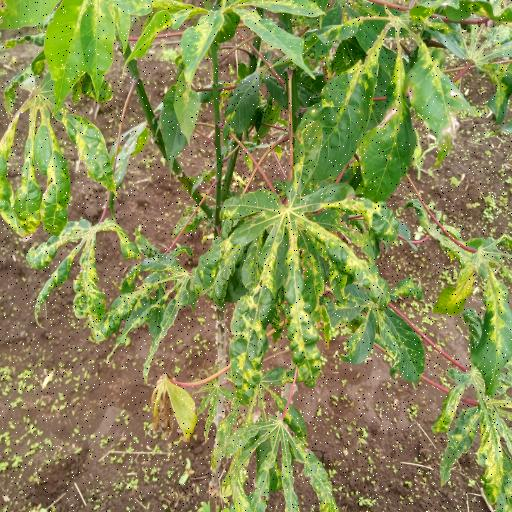Cassava_Mosaic: (212, 186, 404, 384), (2, 88, 110, 232), (26, 217, 134, 353), (220, 408, 344, 512), (440, 236, 512, 382), (449, 360, 511, 512)
